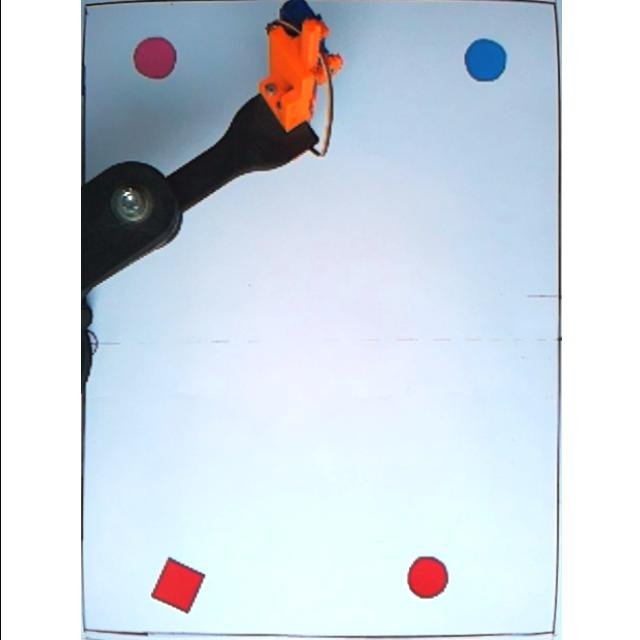blueCircle: (460, 36, 508, 86)
pinkCircle: (130, 36, 177, 80)
redCircle: (402, 554, 448, 602)
redSquare: (148, 557, 205, 615)
